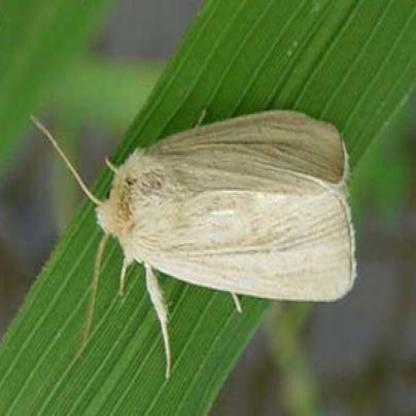stem-borer: (55, 104, 360, 351)
